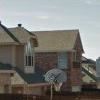Chimney: (12, 19, 25, 29)
